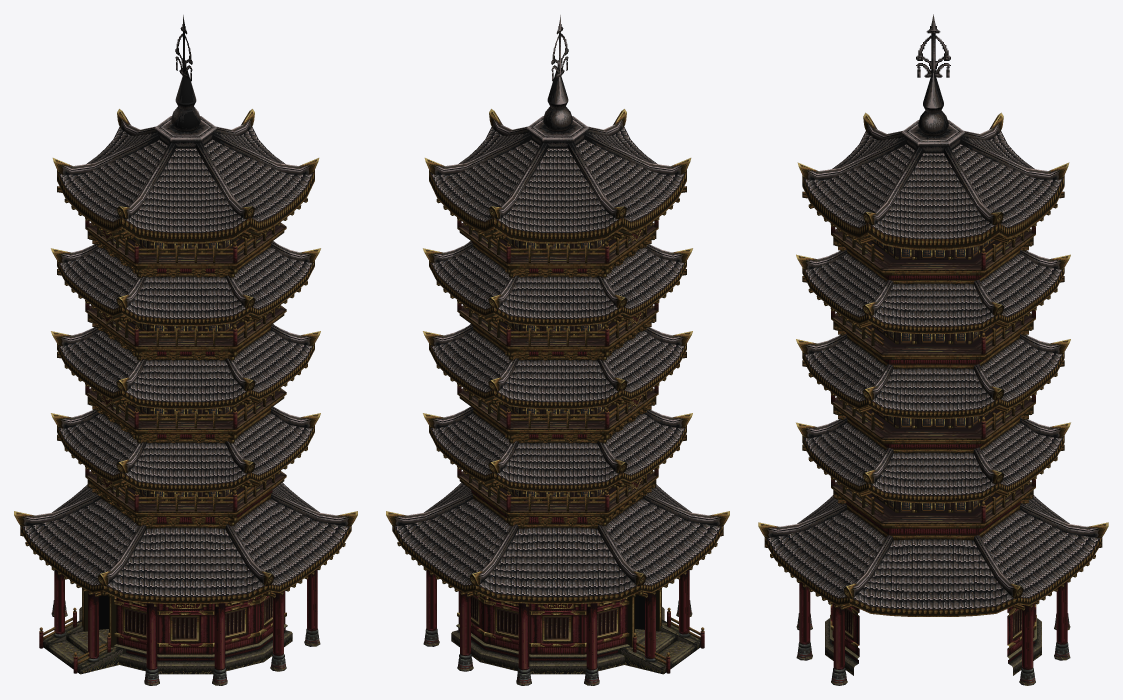
The model's file is EnvBdgMD_Desert_Tower.FBX.
3 renders of one model, left to right at view 1: azimuth 30°, elevation 25°; view 2: azimuth 150°, elevation 25°; view 3: azimuth 270°, elevation 25°, orthographic.
Parts seen in each view (by area): view 1: EnvBdgMD_Desert_Tower; view 2: EnvBdgMD_Desert_Tower; view 3: EnvBdgMD_Desert_Tower.
Boxes of the visible parts, x1=… form: EnvBdgMD_Desert_Tower: x1=14, y1=15, x2=357, y2=685; EnvBdgMD_Desert_Tower: x1=386, y1=15, x2=729, y2=685; EnvBdgMD_Desert_Tower: x1=758, y1=14, x2=1108, y2=685.
Size of the model in its own units: 1317 by 2975 by 1505.
